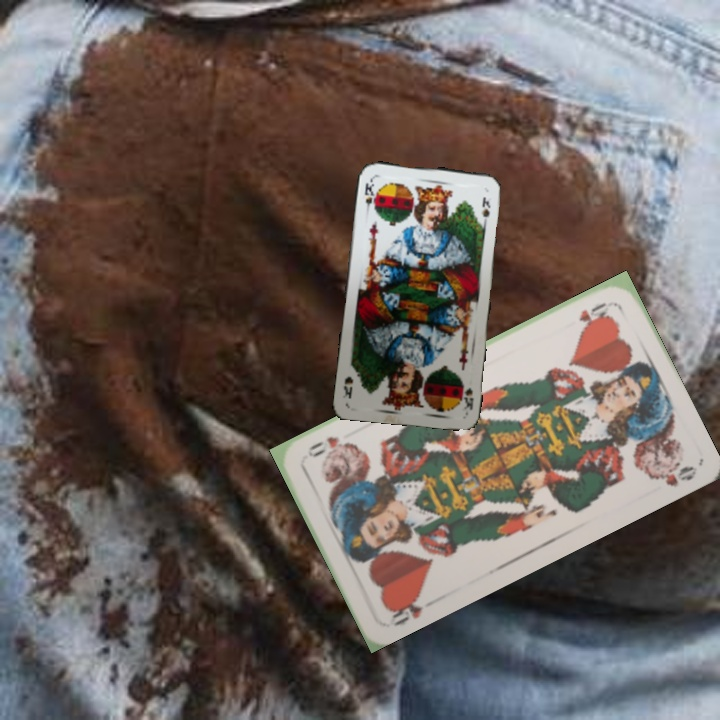HO: (384, 588, 425, 629), (575, 298, 610, 330)
SK: (360, 175, 376, 216), (458, 380, 476, 413)
